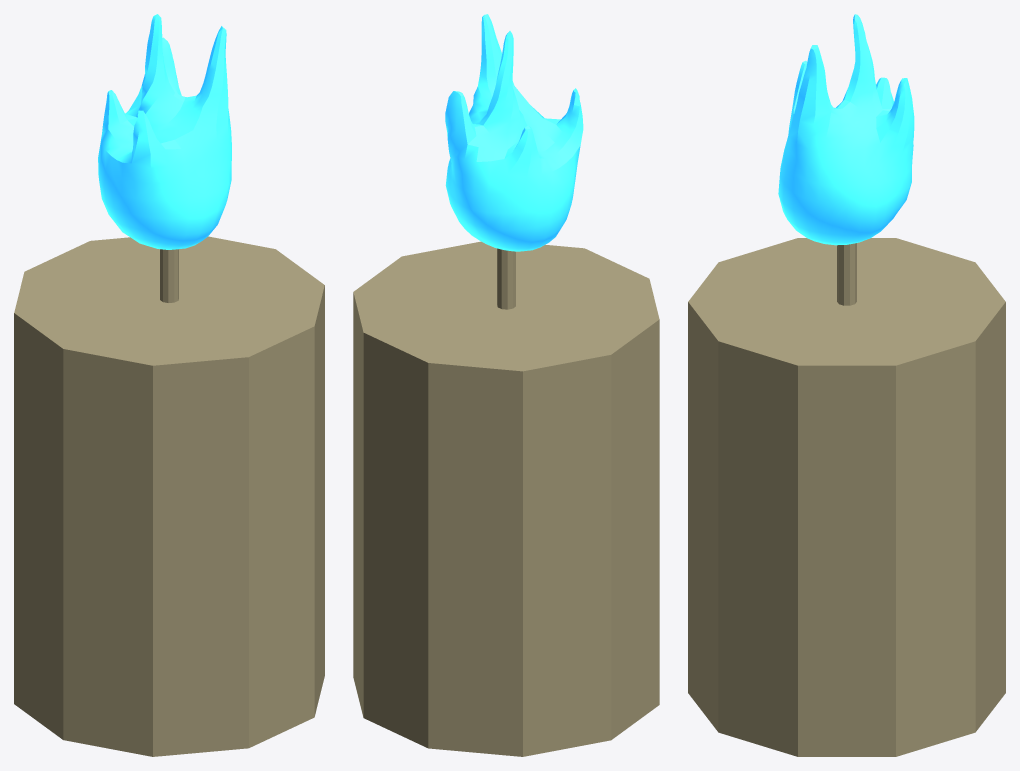
The model's file is Candle_Blu_1.fbx.
3 renders of one model, left to right at view 1: azimuth 30°, elevation 25°; view 2: azimuth 150°, elevation 25°; view 3: azimuth 270°, elevation 25°, orthographic.
Parts seen in each view (by area): view 1: Candle 1.007; view 2: Candle 1.007; view 3: Candle 1.007.
Boxes of the visible parts, x1=… form: Candle 1.007: x1=14, y1=14, x2=324, y2=756; Candle 1.007: x1=353, y1=14, x2=659, y2=756; Candle 1.007: x1=688, y1=14, x2=1005, y2=756.
Size of the model in its own units: 22.83 by 56.29 by 24.
